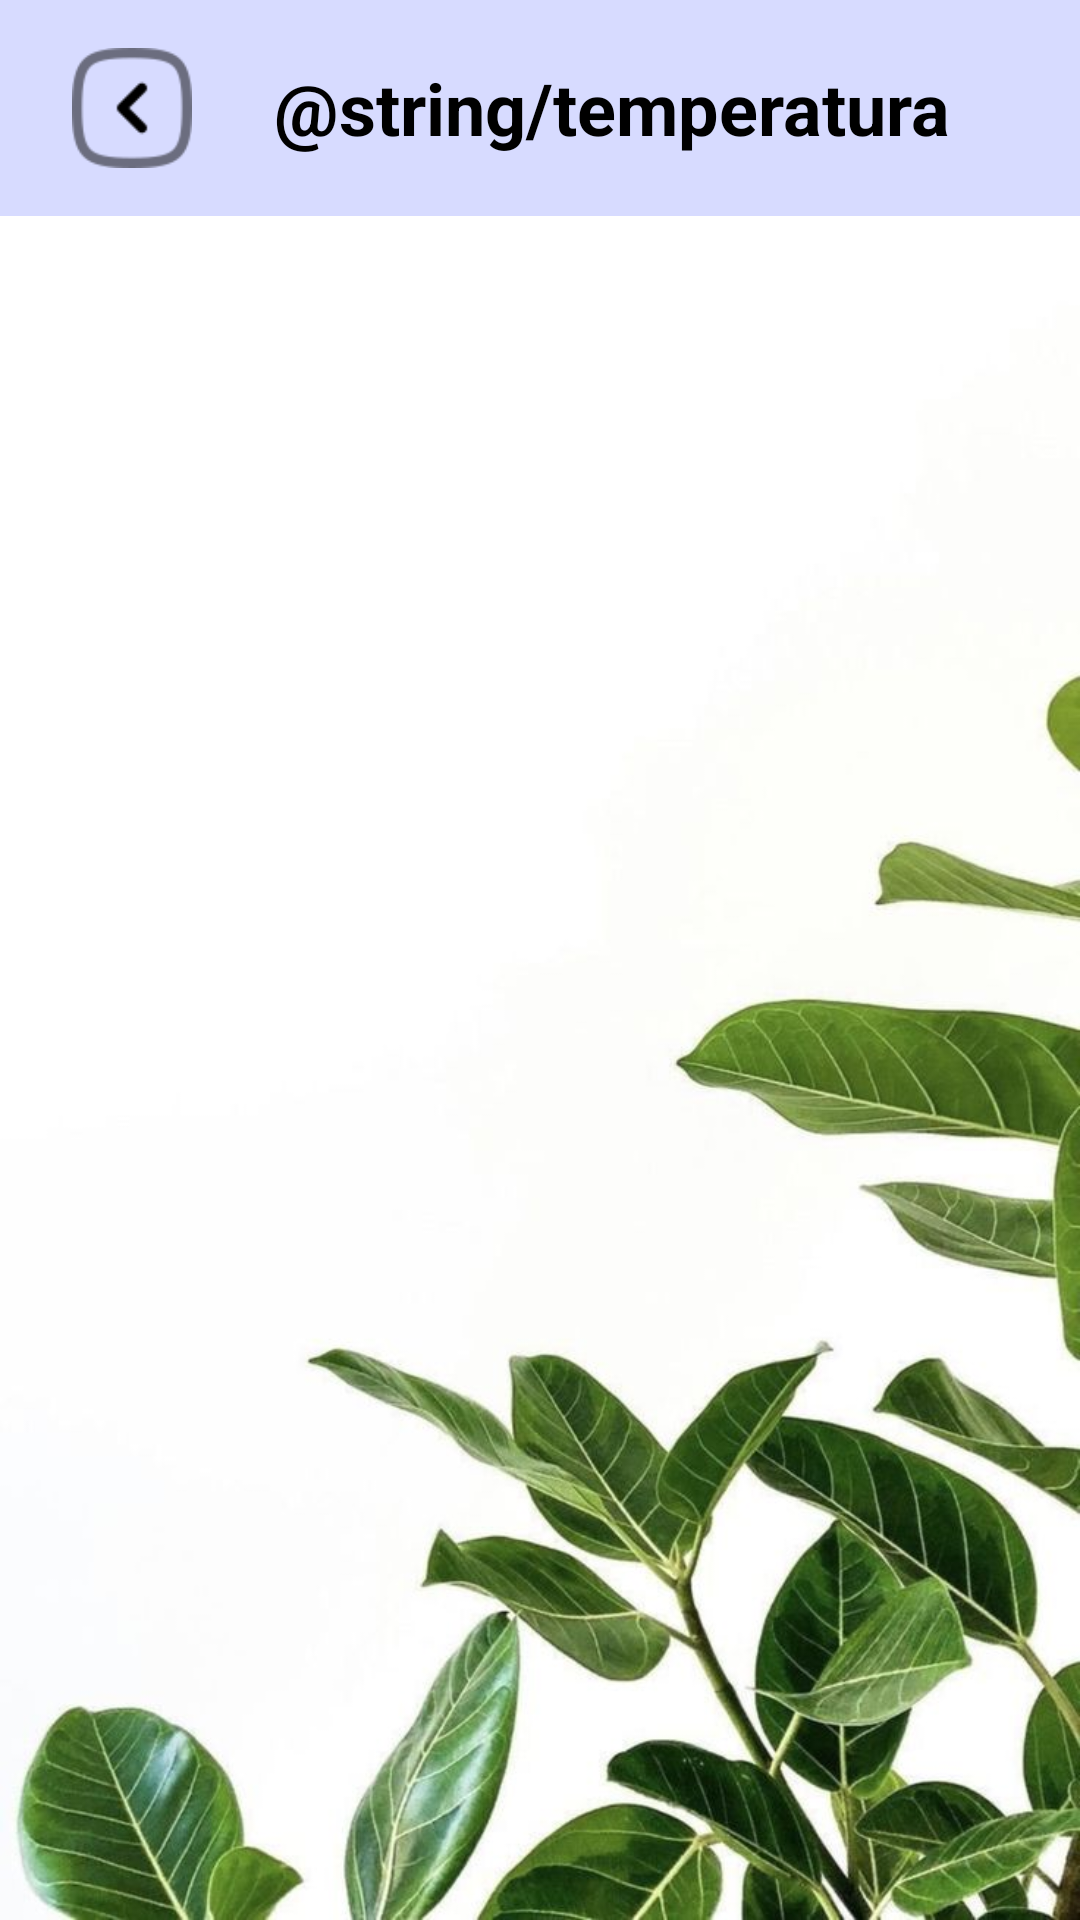

Where icons sit on this 1080px×1920px app screen, as region(x1, y1, x2, y2):
flecha regresar: region(72, 48, 192, 168)
